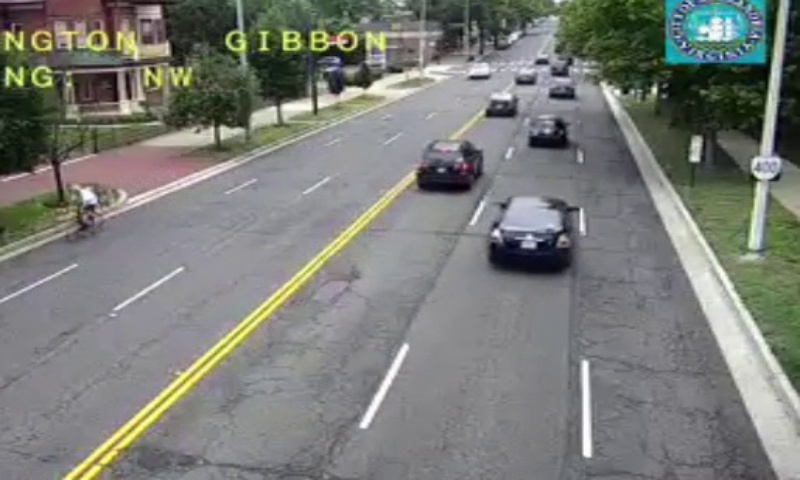car: (490, 196, 572, 261), (417, 141, 480, 189), (526, 115, 568, 146), (485, 93, 518, 117)
